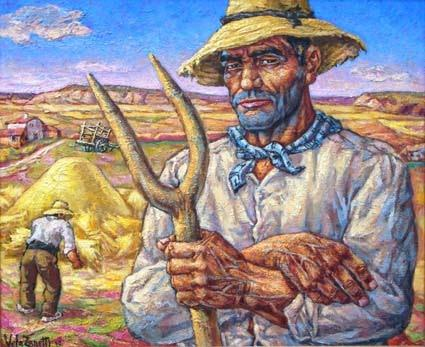person: (119, 1, 422, 344), (16, 201, 85, 322)
